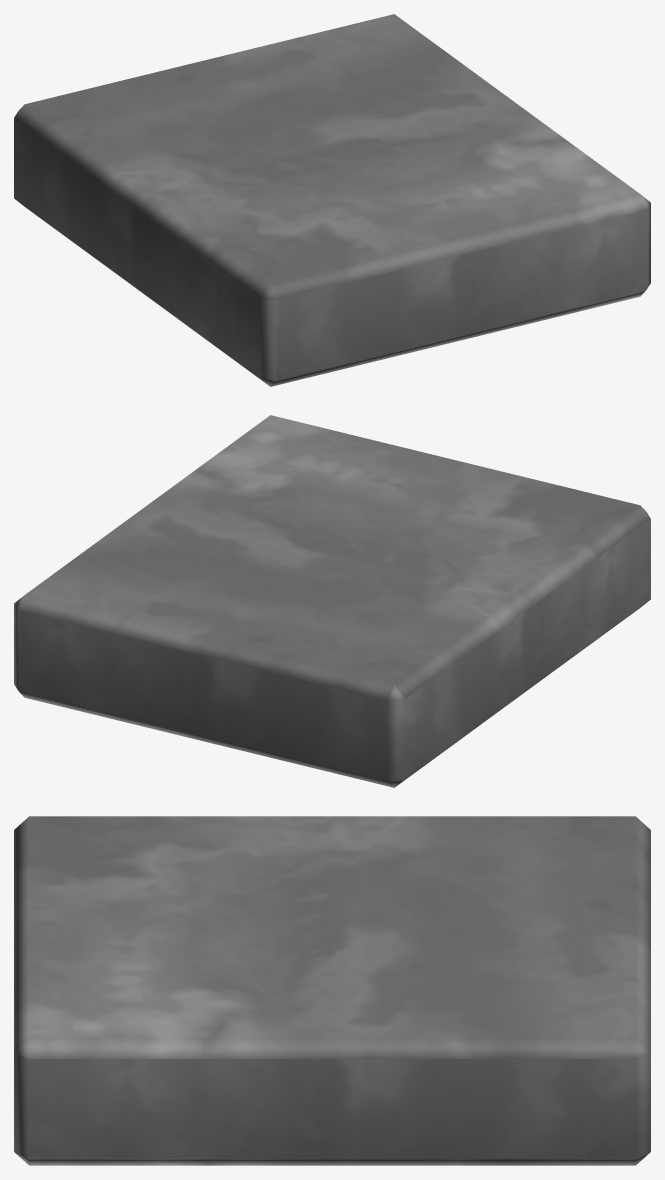
File: SM_floor_bricks_02.fbx
3 renders of one model, top to bottom at view 1: azimuth 30°, elevation 25°; view 2: azimuth 150°, elevation 25°; view 3: azimuth 270°, elevation 25°, orthographic. The views are drawn at different scales.
Parts seen in each view (by area): view 1: SM_floor_bricks_02; view 2: SM_floor_bricks_02; view 3: SM_floor_bricks_02.
Part boxes in pixels (box(x1,y1,x2,y2)): SM_floor_bricks_02: box(14, 14, 650, 386); SM_floor_bricks_02: box(14, 415, 650, 787); SM_floor_bricks_02: box(14, 816, 650, 1165).
Size of the model in its own units: 36.94 by 42.25 by 9.26.
1 material, 1 textured.
